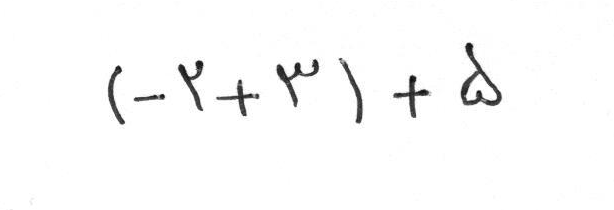character: (460, 42, 498, 106), (276, 58, 321, 111), (393, 75, 432, 122), (338, 57, 364, 124), (216, 79, 260, 118), (178, 60, 205, 114), (107, 65, 127, 128), (134, 93, 167, 105)
